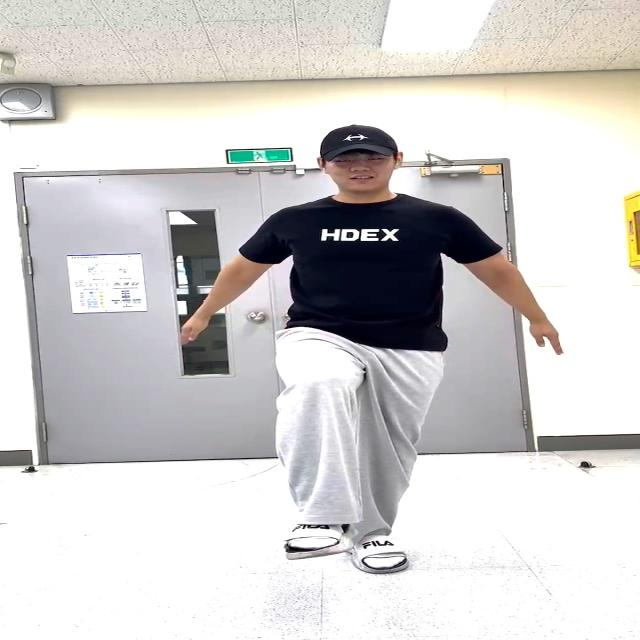leg: (264, 332, 364, 560)
